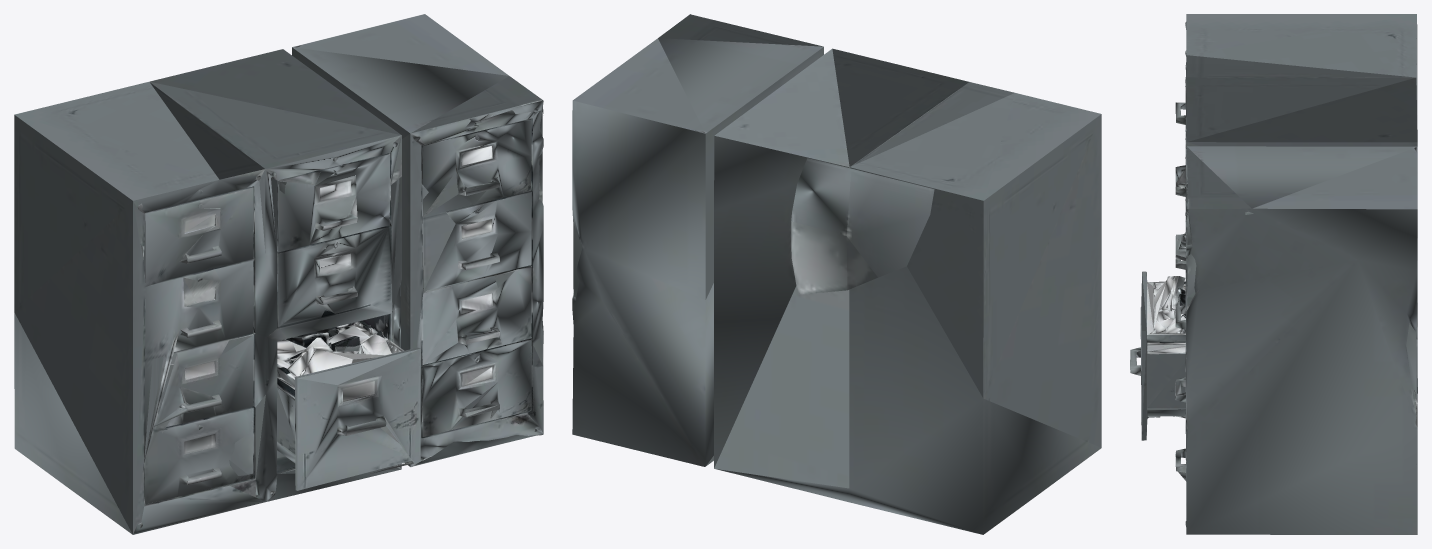
File: filing_cabinets.glb
3 renders of one model, left to right at view 1: azimuth 30°, elevation 25°; view 2: azimuth 150°, elevation 25°; view 3: azimuth 270°, elevation 25°, orthographic. The views are drawn at different scales.
Parts seen in each view (by area): view 1: filing_cabinets; view 2: filing_cabinets; view 3: filing_cabinets.
Boxes of the visible parts, bbox=[...] form: filing_cabinets: bbox=[14, 14, 543, 534]; filing_cabinets: bbox=[572, 14, 1101, 534]; filing_cabinets: bbox=[1130, 14, 1417, 534].
Size of the model in its own units: 1.4 by 1.09 by 0.8697.
1 material, 1 textured.
